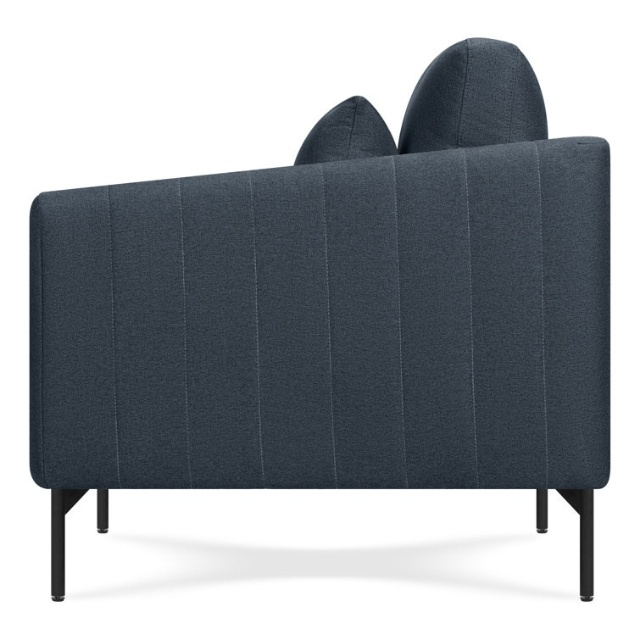obstacle: (31, 38, 609, 600)
